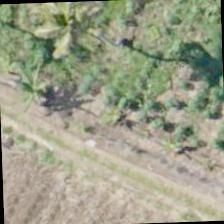Kelapa_Sawit: (28, 0, 120, 73)
